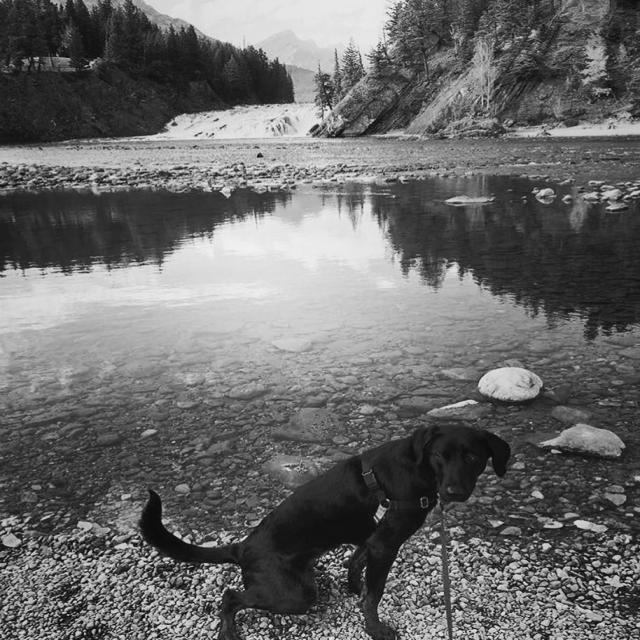squatting: (130, 401, 521, 640)
